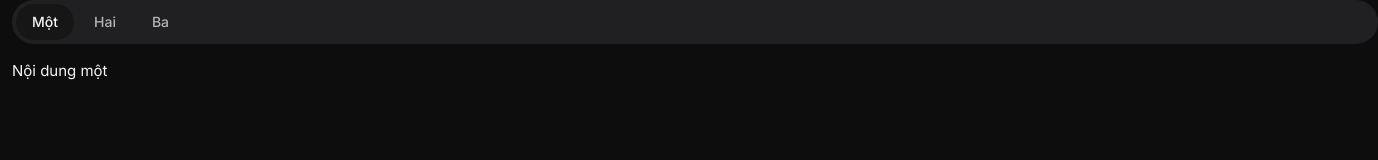
Test: Tabs › shows only the selected panel, labelled by its tab
Click the tab "Hai": (105, 22) 78,4 -> 132,40
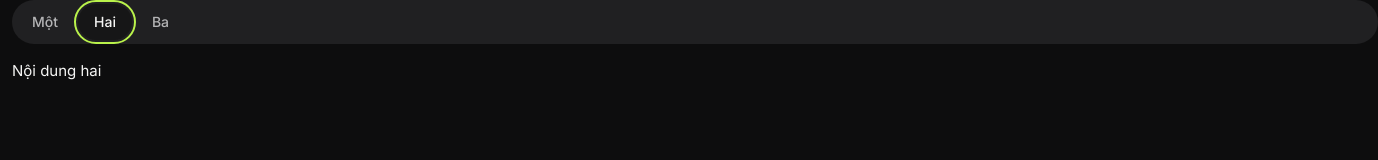
Expected: the panel reads "Nội dung hai", 12,61 -> 101,80
Expected: the text "Nội dung một" is gone
